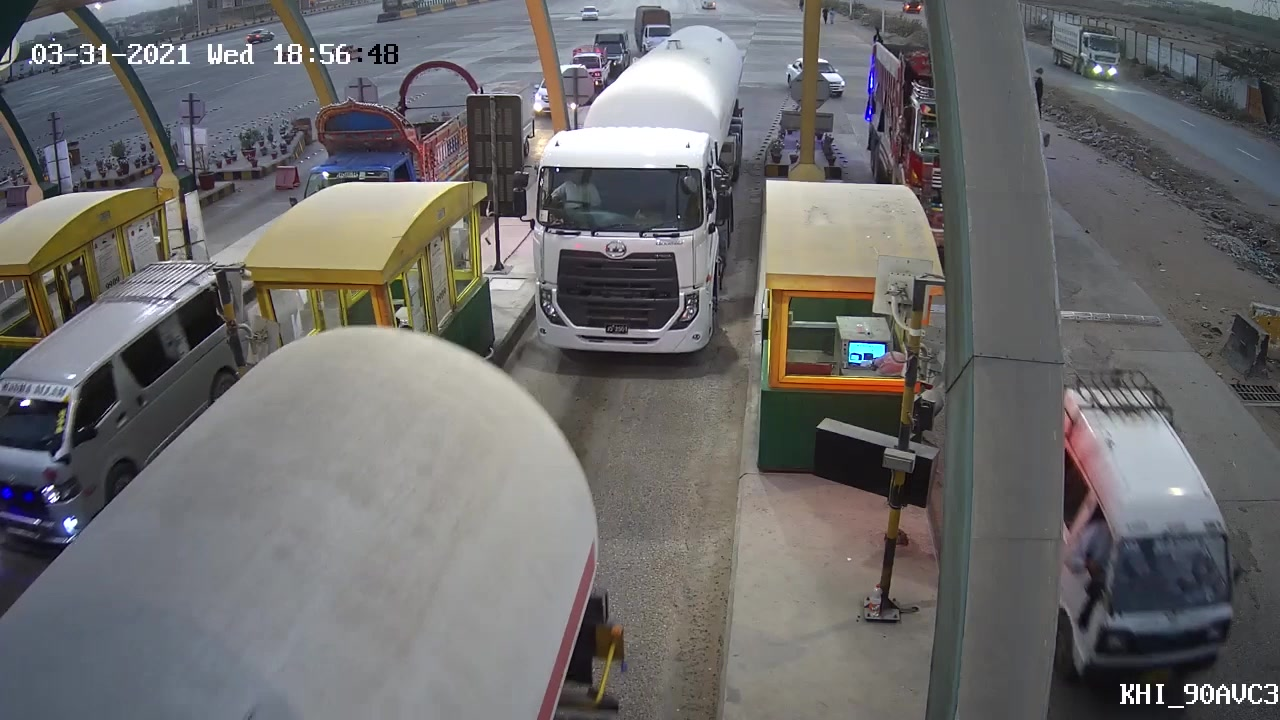F6: (523, 17, 754, 367)
